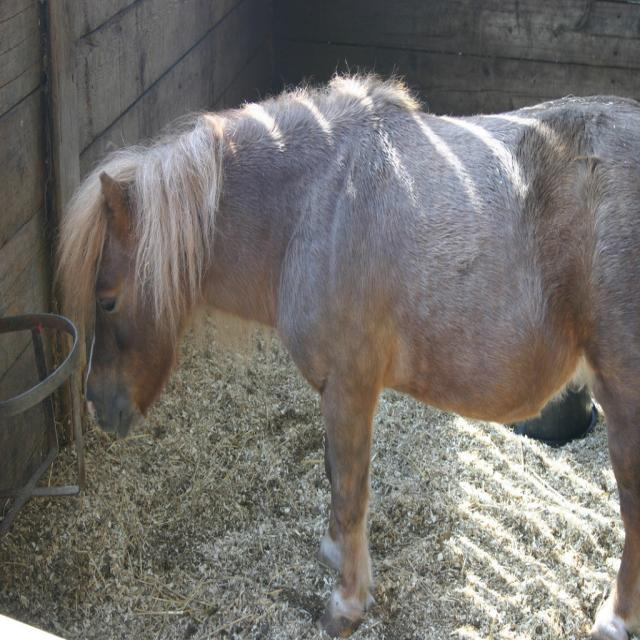Horse: (49, 53, 640, 640)
